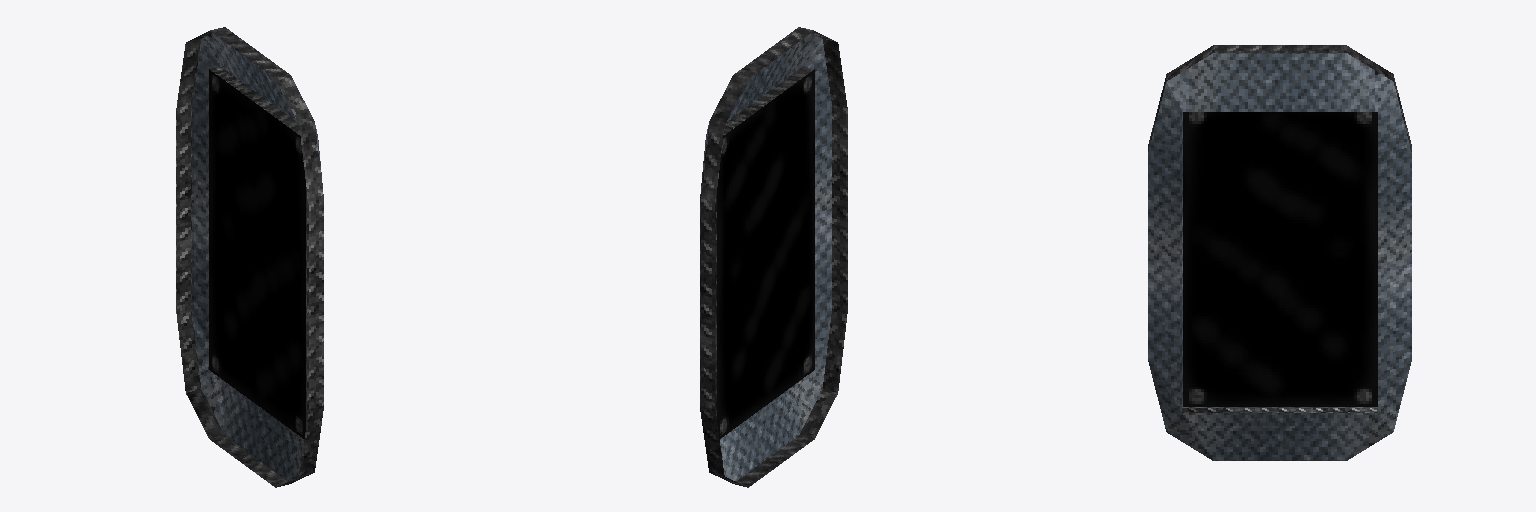
3 renders of one model, left to right at view 1: azimuth 30°, elevation 25°; view 2: azimuth 150°, elevation 25°; view 3: azimuth 270°, elevation 25°, orthographic.
Parts seen in each view (by area): view 1: Plane; view 2: Plane; view 3: Plane.
Part boxes in pixels (x1,y1,x2,y2): Plane: (176,27,323,487); Plane: (700,27,847,487); Plane: (1148,45,1411,460).
Bounding box in the file's own units: 0.37 × 5.35 × 3.14.
1 materials, 1 textured.